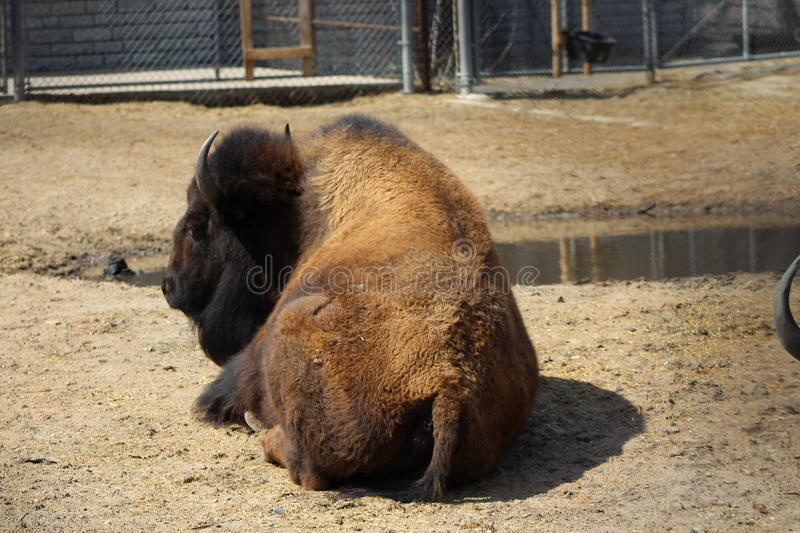yak: (159, 109, 543, 524)
